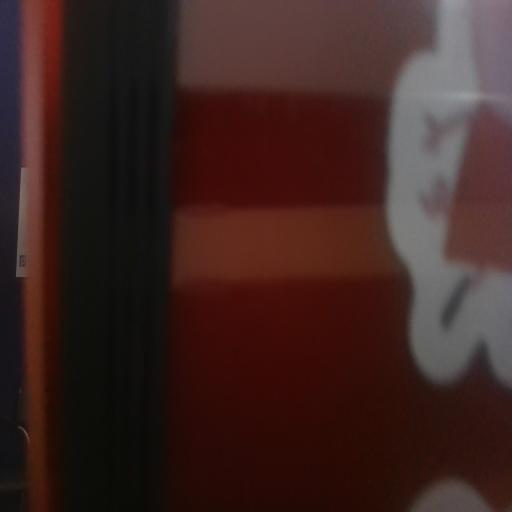phone: (26, 4, 512, 512)
